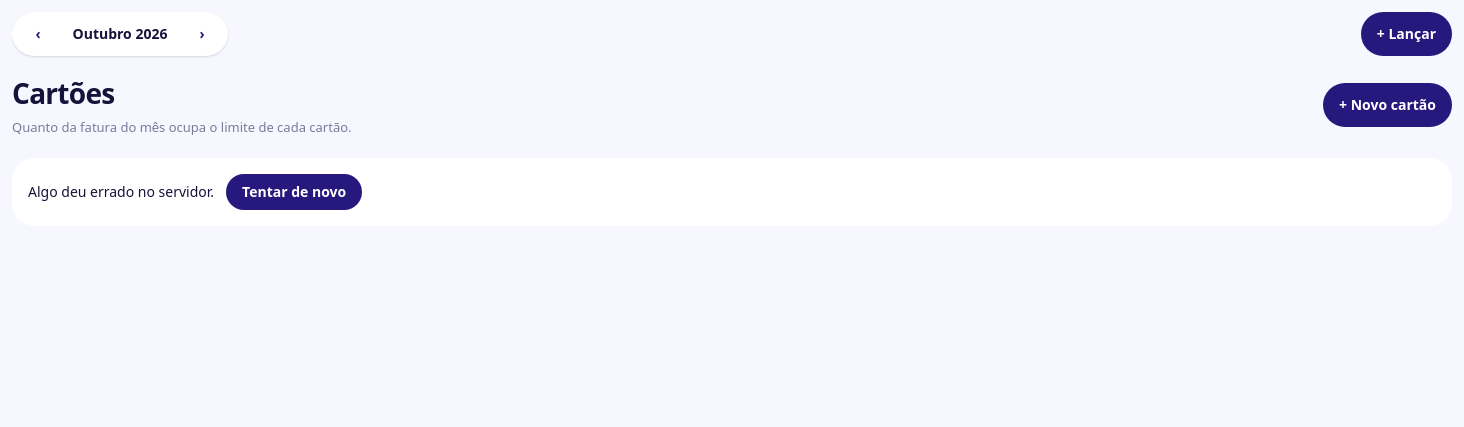
Test case: CartoesPage › erro_mostra_a_mensagem_e_tenta_de_novo
This screenshot has width=1464, height=427.
expect the message shows "Algo deu errado no servidor.": met, box top-left (28, 182), bottom-right (214, 200)
Click the button "Tentar de novo".
click(294, 192)  # box top-left (226, 174), bottom-right (362, 210)
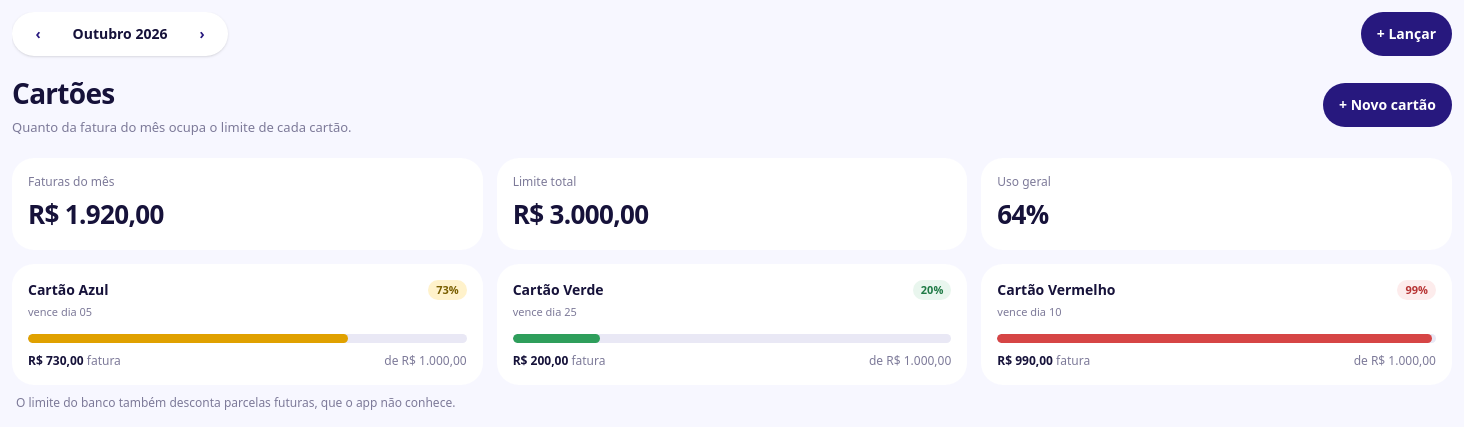
expect the element "Cartão Azul" is shown: met, box top-left (12, 264), bottom-right (483, 385)
